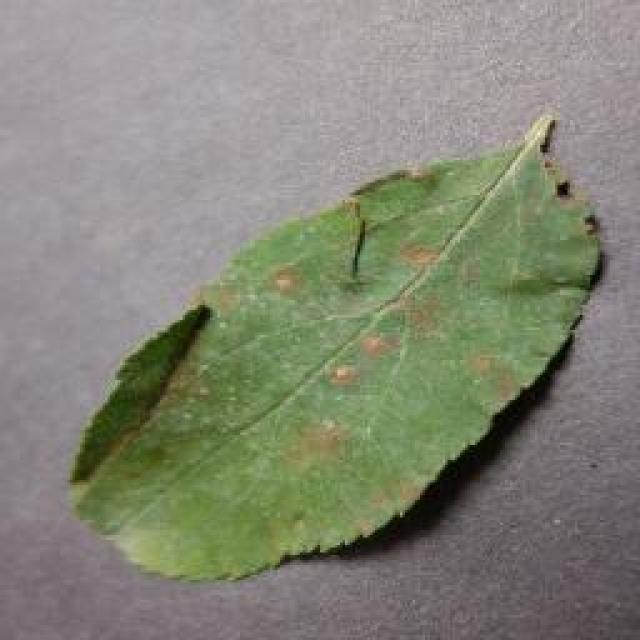apple cedar apple rust: (65, 110, 605, 582)
